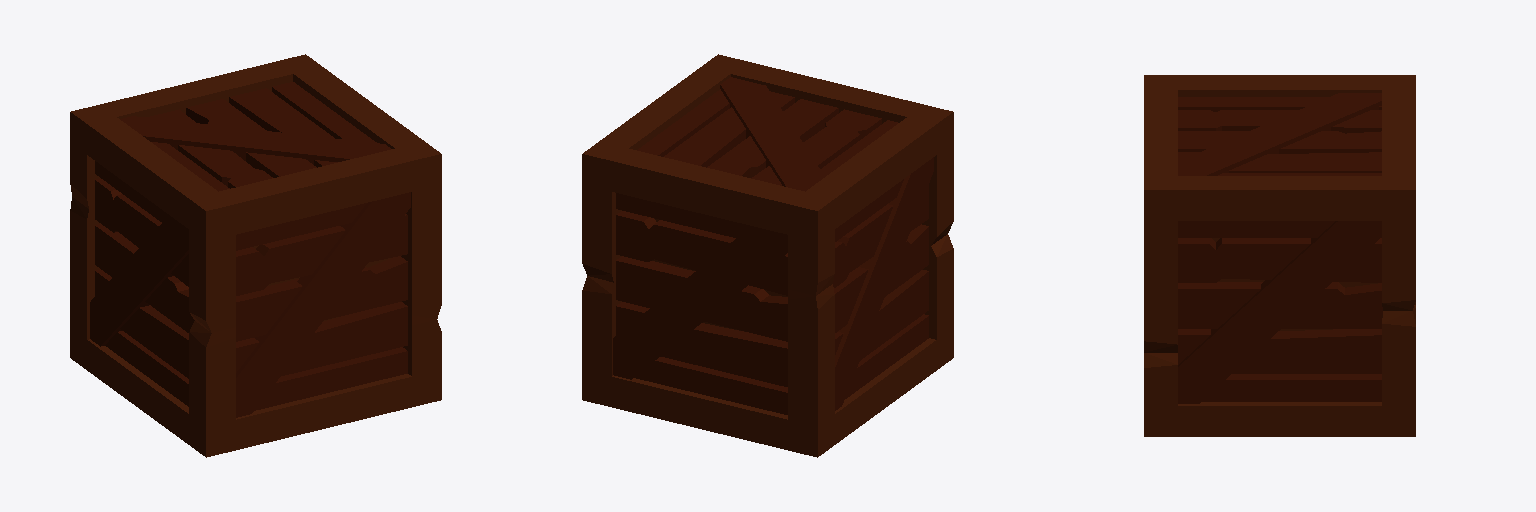
The model's file is Crate.obj.
3 views of the same model, side by side, from view 1: azimuth 30°, elevation 25°; view 2: azimuth 150°, elevation 25°; view 3: azimuth 270°, elevation 25° (orthographic).
Parts seen in each view (by area): view 1: Crate; view 2: Crate; view 3: Crate.
Part boxes in pixels (x1,y1,x2,y2): Crate: (70, 54, 441, 457); Crate: (582, 54, 953, 457); Crate: (1144, 75, 1415, 436).
Bounding box in the file's own units: 1 × 1 × 1.